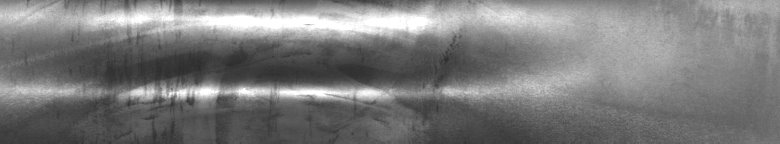ke: (7, 4, 524, 136)
